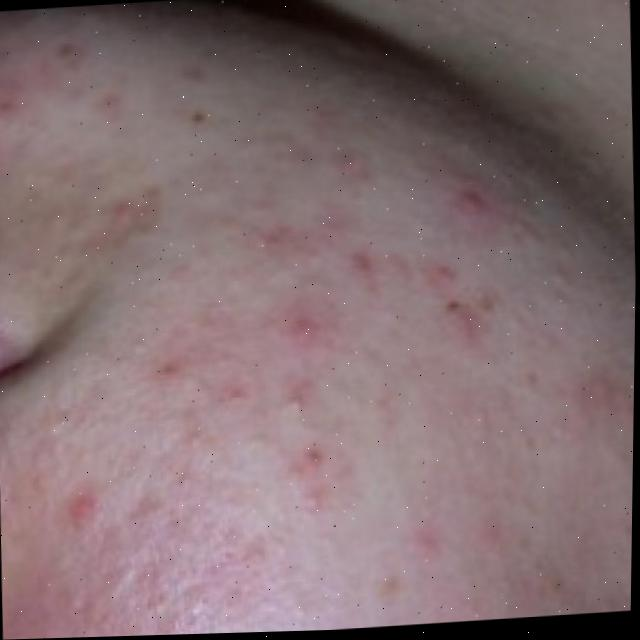Acne: (90, 105, 540, 637)
